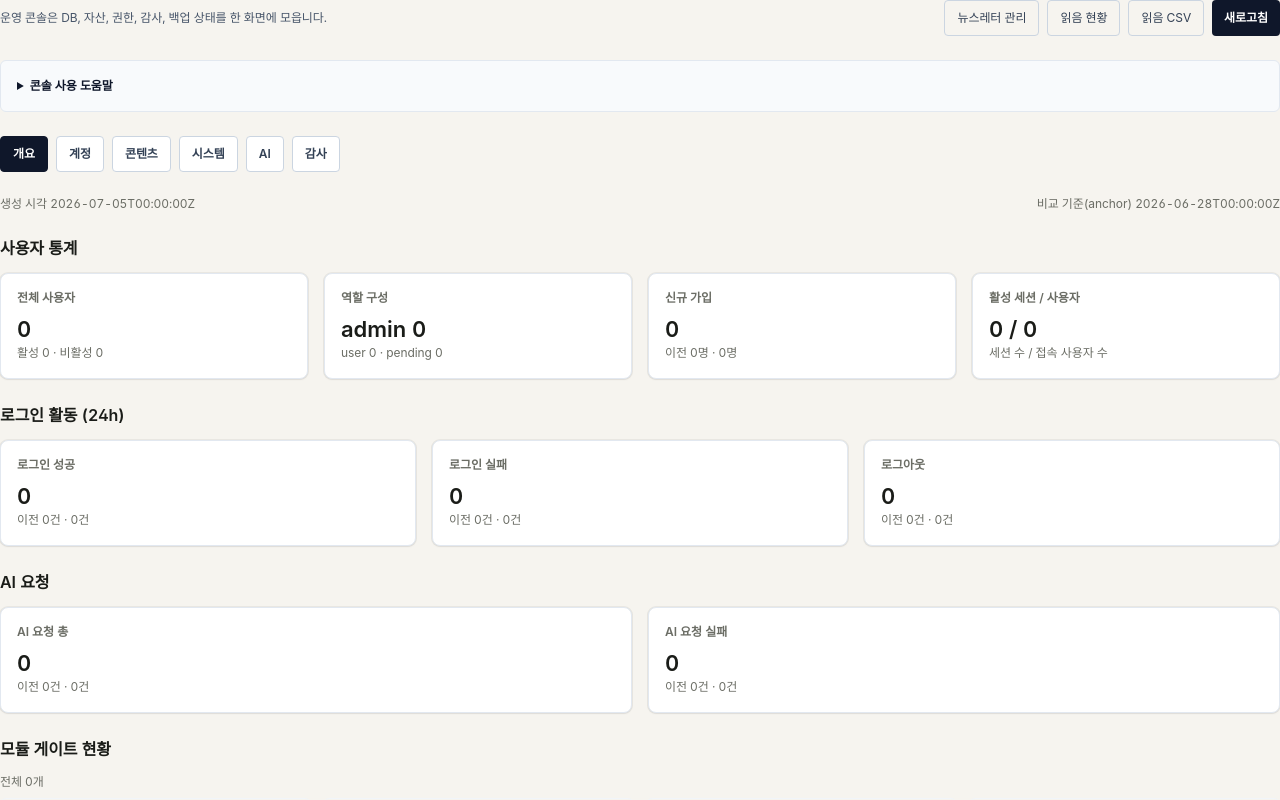
Test: 세션 tab ignores an older connected-users response that finishes after a newer refresh
What coordinates should you click on to do the following:
click the tab "계정"
I would click on:
 (80, 154)
Its box is top-left (56, 136), bottom-right (104, 172).
(page scrolled)
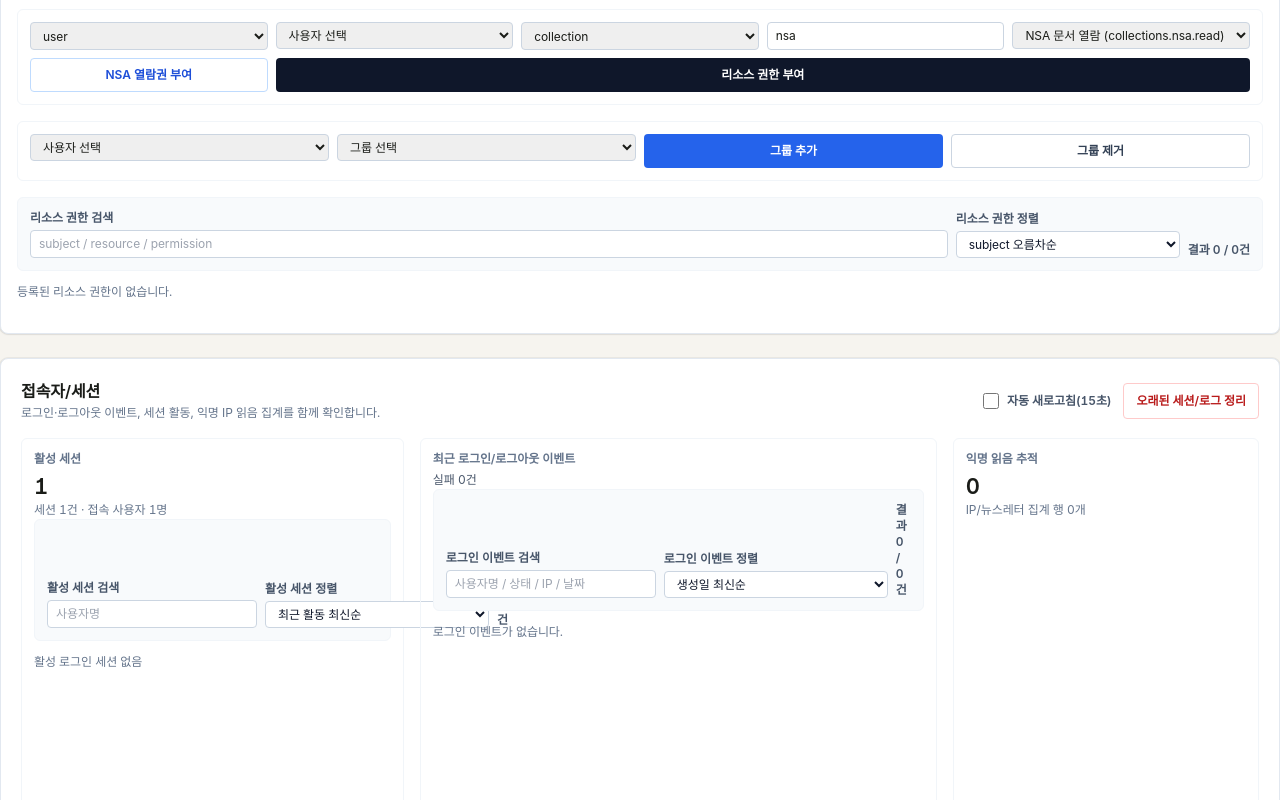
Now the text "세션 1건 · 접속 사용자 1명" is shown, box top-left (34, 502), bottom-right (167, 517)
What coordinates should you click on to do the following:
click the checkbox named "세션 자동 새로고침"
I would click on:
 (991, 400)
Its box is top-left (983, 392), bottom-right (999, 408).
Wait 30000 ms
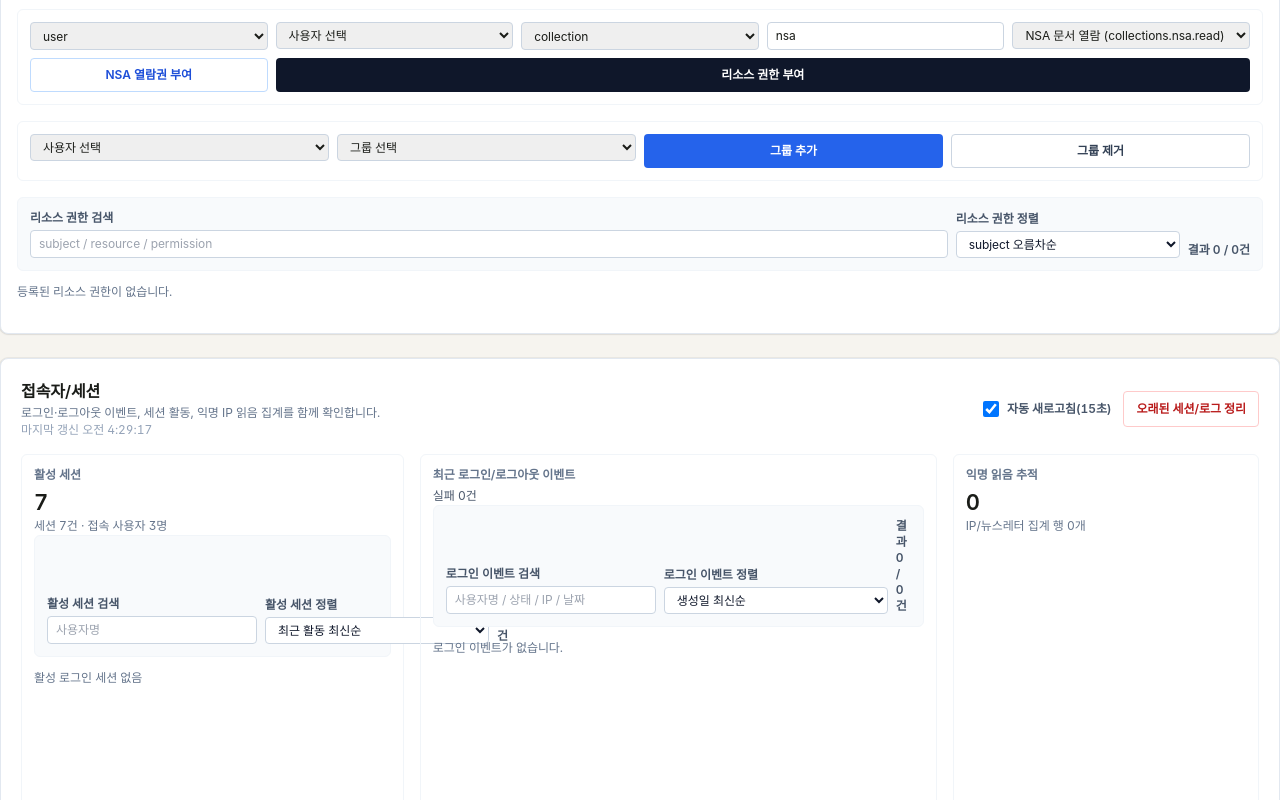
Now the text "세션 7건 · 접속 사용자 3명" is shown, box top-left (34, 518), bottom-right (167, 533)
